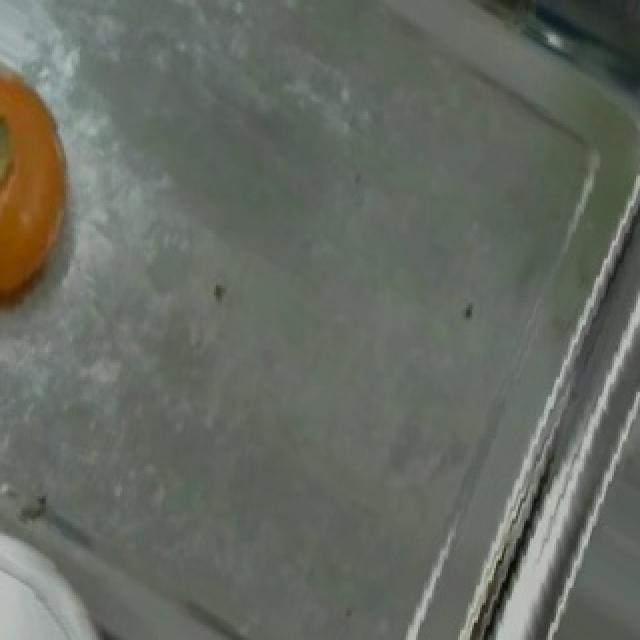Fruit: (66, 580, 274, 640)
